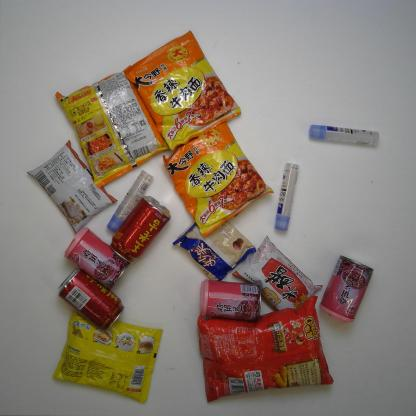Canned Food: (59, 221, 140, 297), (315, 250, 379, 333), (195, 271, 268, 328)
Dessert: (168, 202, 258, 285)
Drink: (36, 262, 138, 341), (104, 188, 178, 268)
Instant Noodles: (110, 34, 253, 154), (36, 76, 173, 190), (44, 302, 193, 406), (161, 123, 271, 235)
Puffed Food: (192, 285, 346, 407)
Seasoner: (24, 141, 119, 235), (231, 232, 327, 319)
Stationery: (104, 164, 153, 240), (307, 111, 386, 155), (269, 148, 304, 238)
